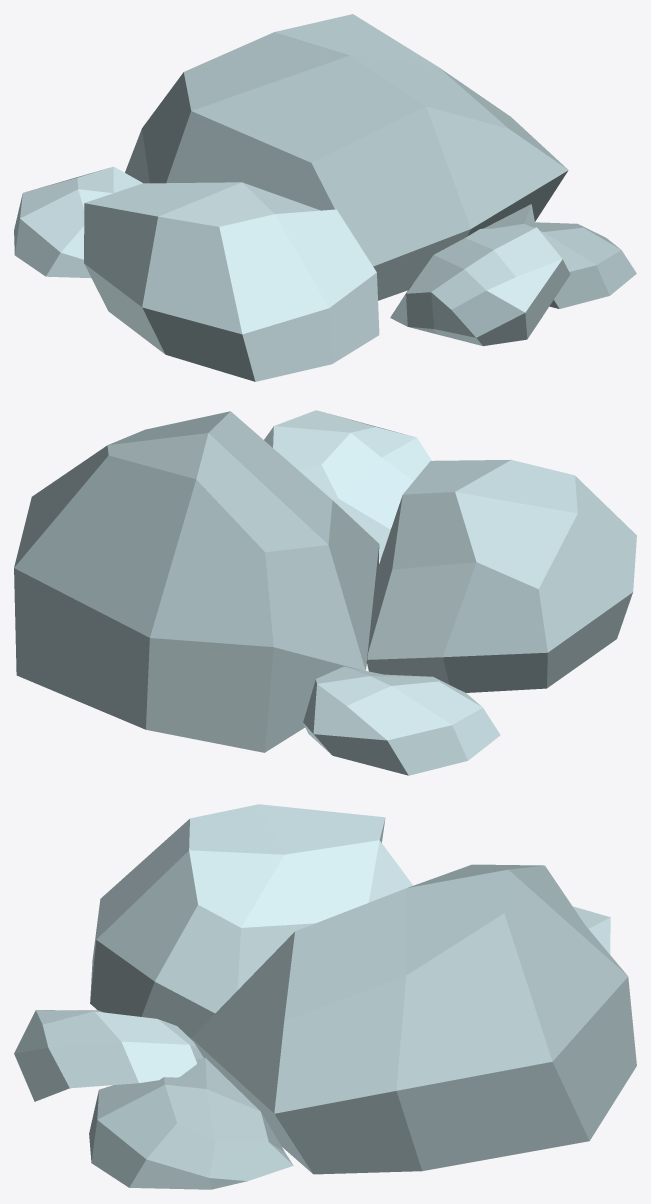
Rendered from Stone_7_Formation.fbx.
3 views of the same model, one above another, from view 1: azimuth 30°, elevation 25°; view 2: azimuth 150°, elevation 25°; view 3: azimuth 270°, elevation 25° (orthographic). The views are drawn at different scales.
Parts seen in each view (by area): view 1: Stone_7_Formation; view 2: Stone_7_Formation; view 3: Stone_7_Formation.
Boxes of the visible parts, x1,y1,x2,y2 form: Stone_7_Formation: (14,14,636,381); Stone_7_Formation: (14,410,636,775); Stone_7_Formation: (14,804,636,1189).
Size of the model in its own units: 0.543 by 0.1957 by 0.5435.
